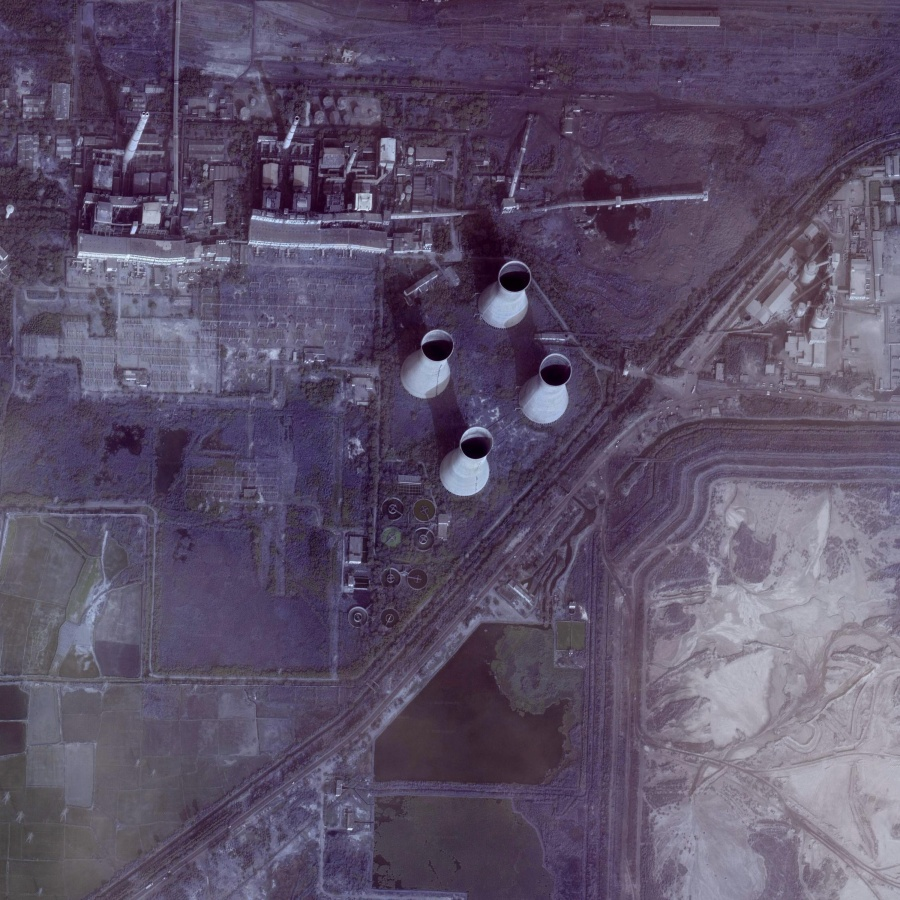PowerPlant: (77, 61, 572, 498)
